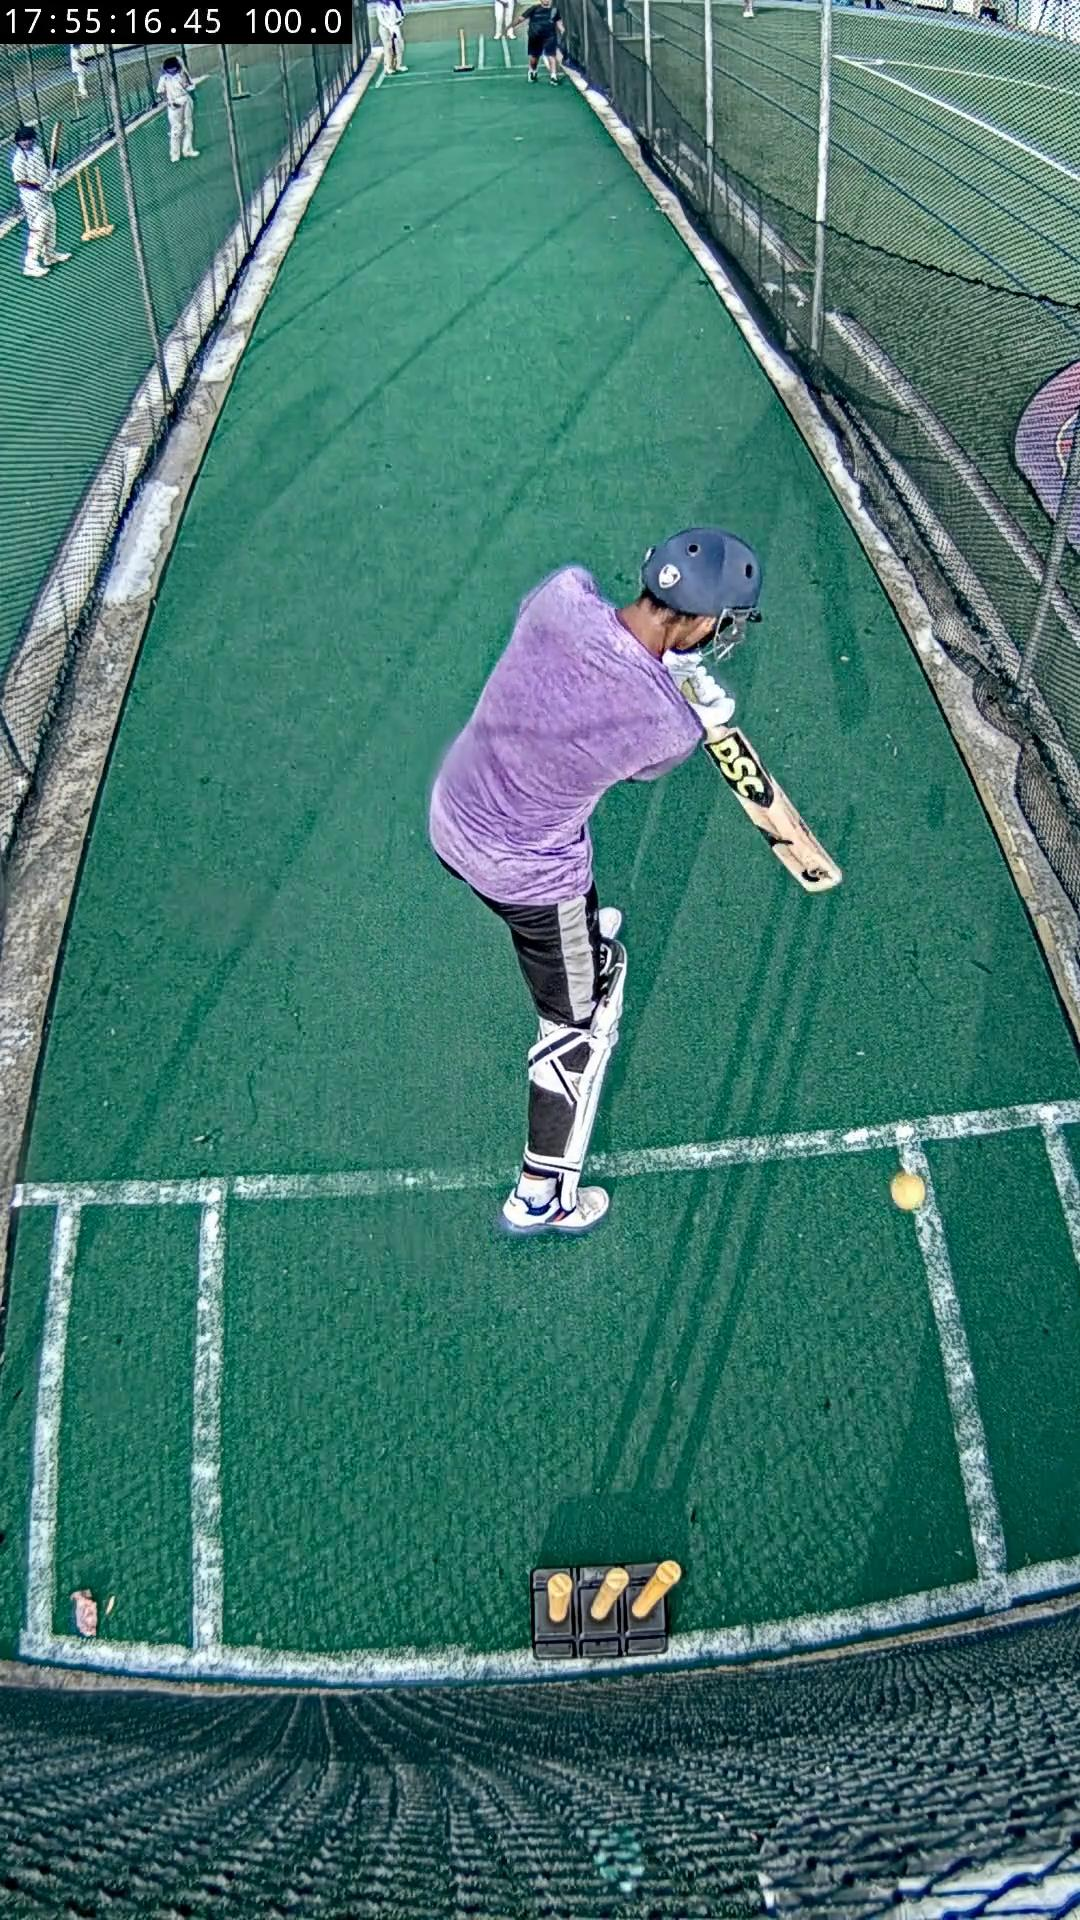ball: (889, 1170, 926, 1212)
bat: (705, 728, 844, 893)
gloves: (663, 653, 735, 732)
helmet: (641, 529, 761, 659)
pads: (570, 942, 626, 1174)
stumps: (533, 1560, 683, 1662)
